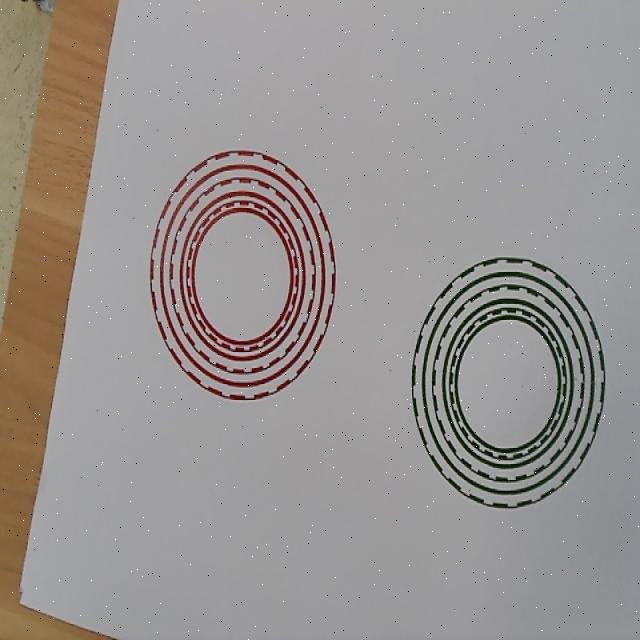g: (412, 256, 606, 510)
red-green-blue: (149, 149, 336, 400)
